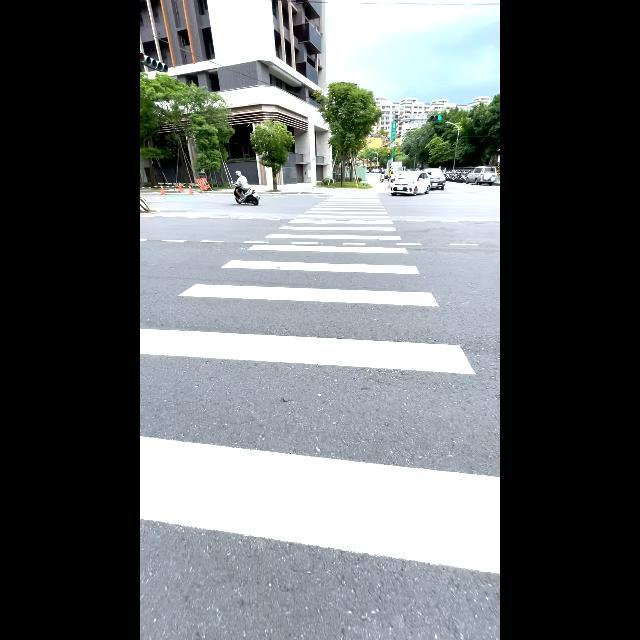sidewalk: (140, 180, 500, 639)
